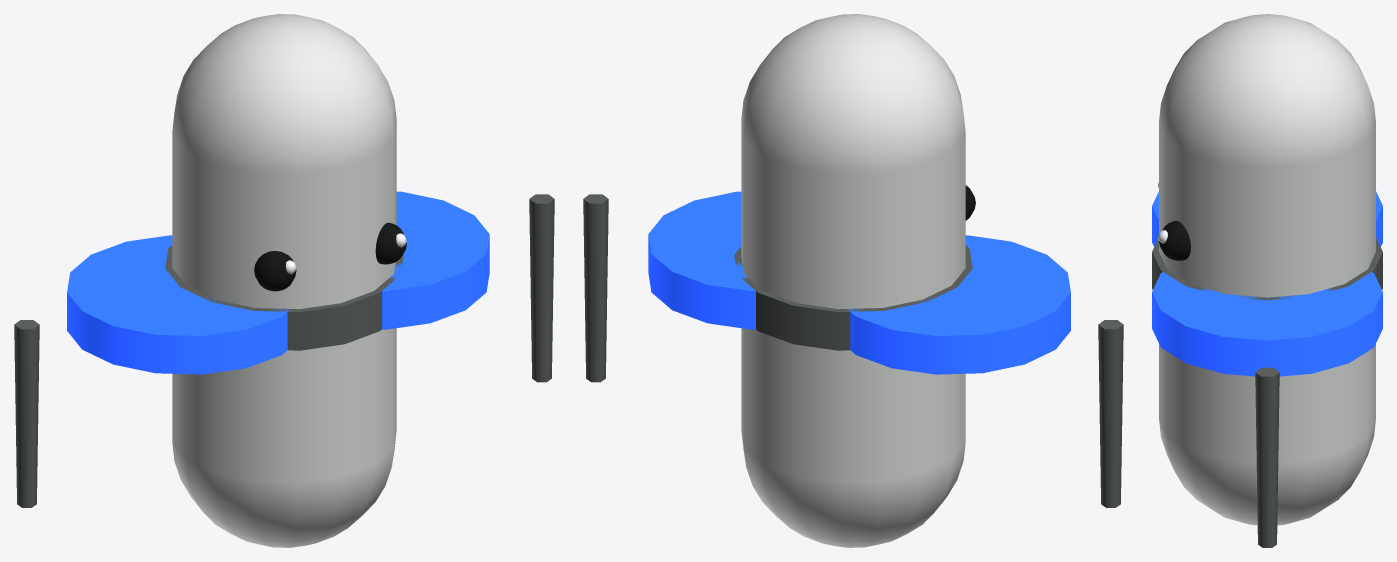
The model's file is resistor.glb.
3 views of the same model, side by side, from view 1: azimuth 30°, elevation 25°; view 2: azimuth 150°, elevation 25°; view 3: azimuth 270°, elevation 25° (orthographic). The views are drawn at different scales.
Size of the model in its own units: 4.36 by 4 by 1.7.
